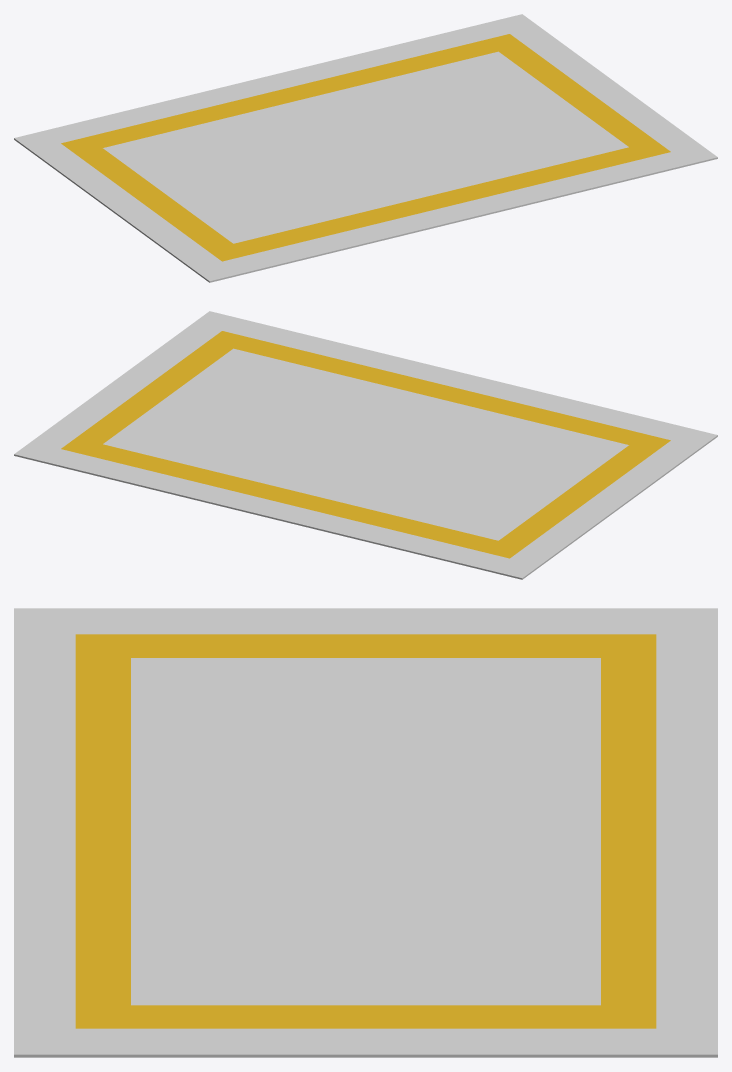
Rendered from alfombrav01.fbx.
3 renders of one model, top to bottom at view 1: azimuth 30°, elevation 25°; view 2: azimuth 150°, elevation 25°; view 3: azimuth 270°, elevation 25°, orthographic. The views are drawn at different scales.
Parts seen in each view (by area): view 1: Plane; view 2: Plane; view 3: Plane.
Part boxes in pixels (left/top/right/bottom): Plane: left=14, top=14, right=717, bottom=282; Plane: left=14, top=311, right=717, bottom=579; Plane: left=14, top=608, right=717, bottom=1057.
Size of the model in its own units: 3 by 0.00891 by 2.
